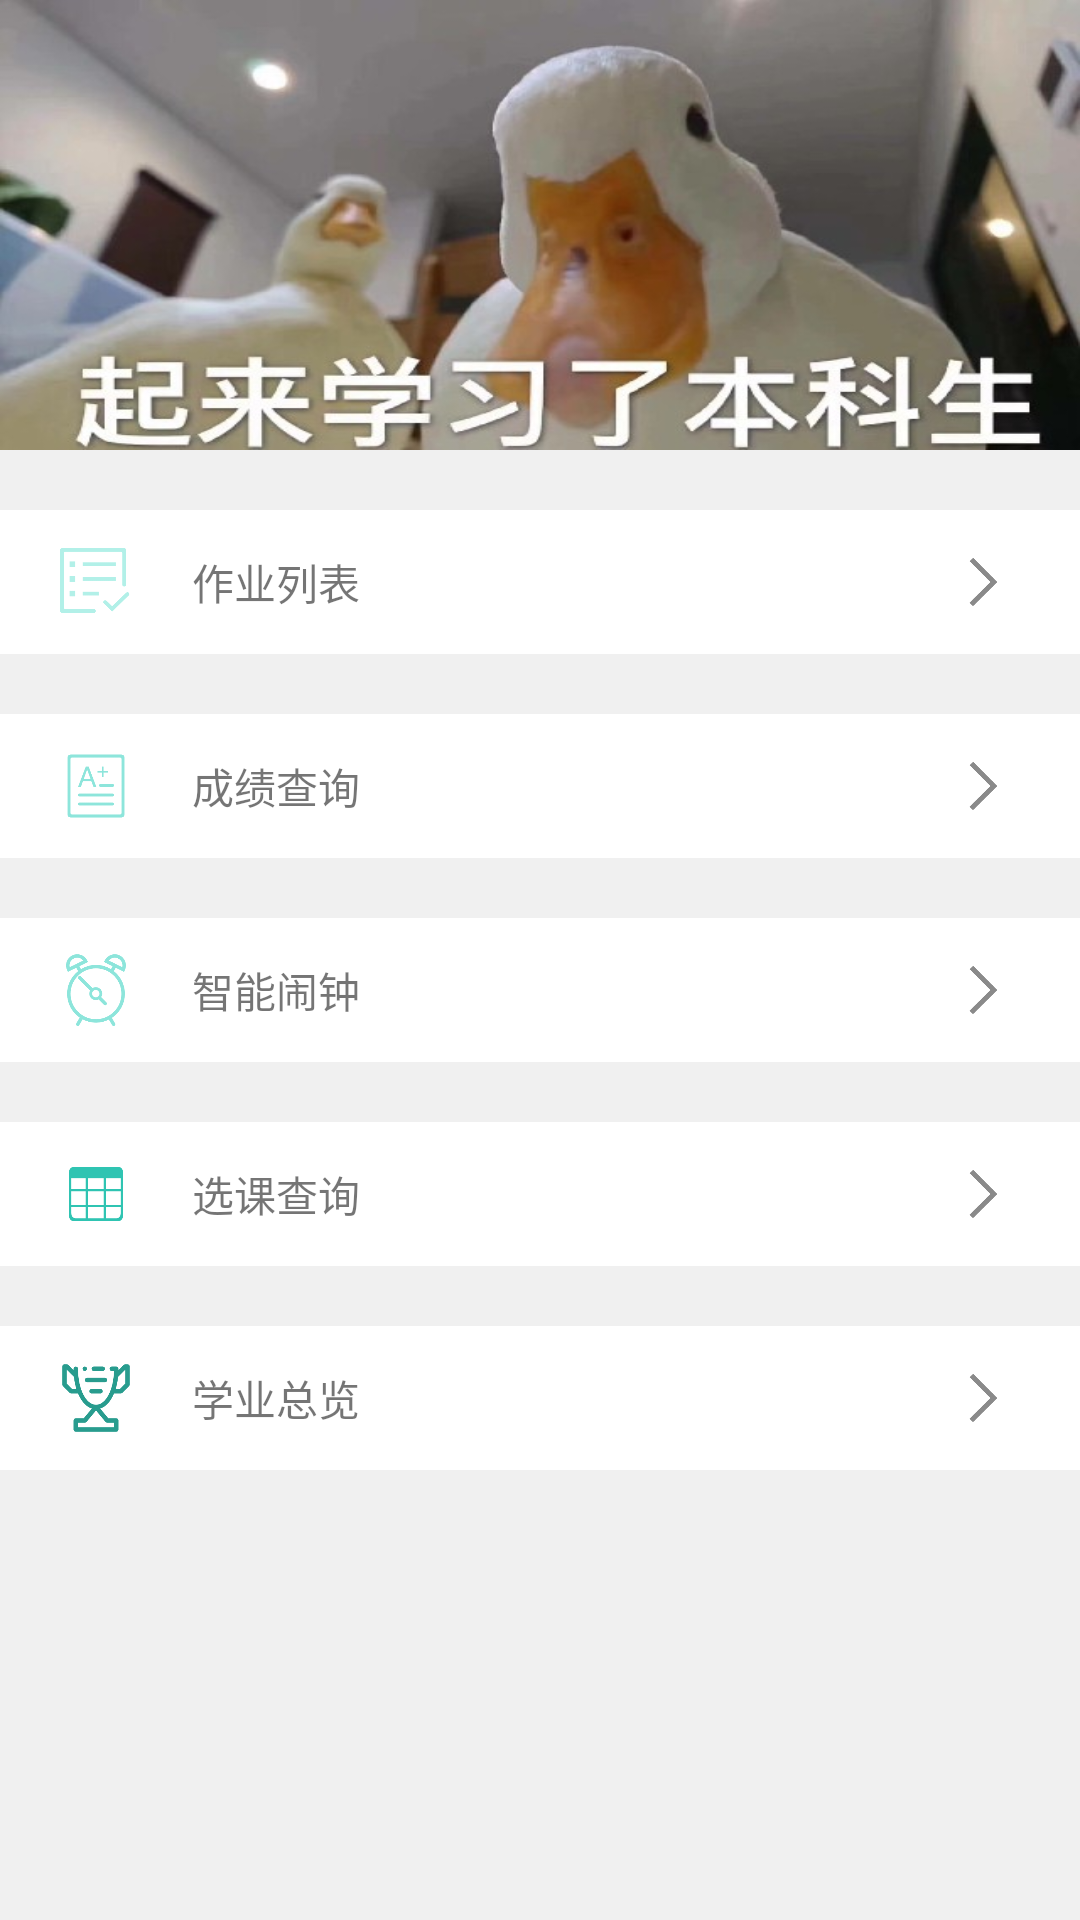

Named icons in this screenshot (1080×1920) and their bounding boxes, (x1, y1, x2, y2):
arrow: (970, 558, 997, 606), (970, 762, 997, 810), (970, 966, 997, 1014), (970, 1170, 997, 1218), (970, 1374, 997, 1422)
chart: (69, 1167, 123, 1221)
clock: (66, 954, 126, 1026)
grade: (67, 754, 125, 818)
homework: (60, 548, 129, 613)
overall: (62, 1364, 130, 1432)
